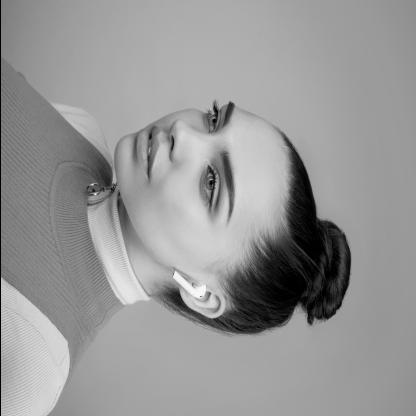Eye: (198, 159, 223, 215), (202, 103, 225, 135)
Mouth: (134, 121, 162, 185)
Nose: (164, 117, 218, 168)
